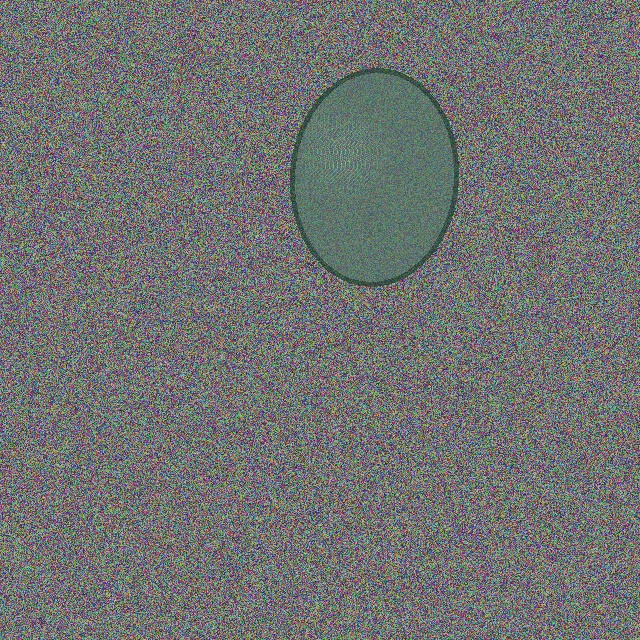lens: (292, 70, 456, 284)
